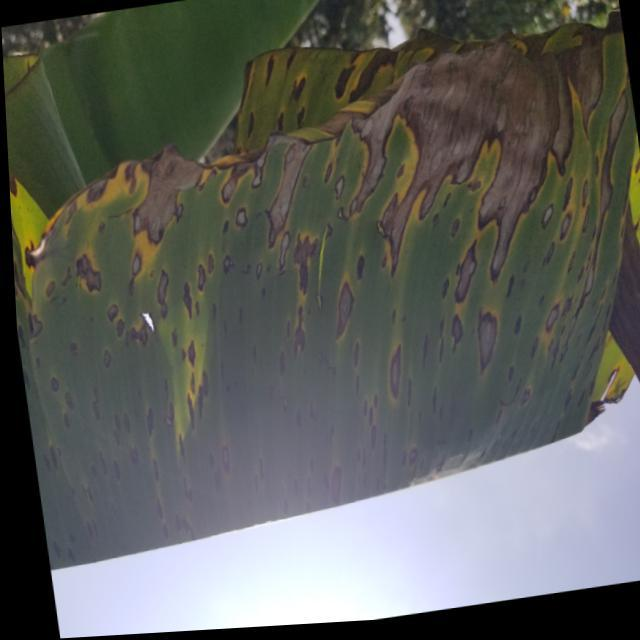Early_rust: (0, 19, 640, 531)
